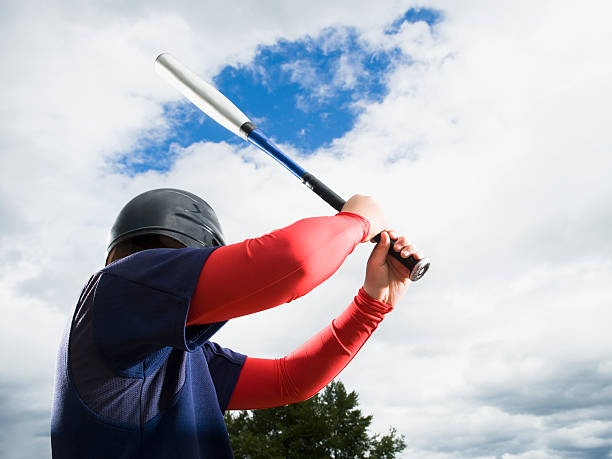bita: (156, 52, 426, 284)
